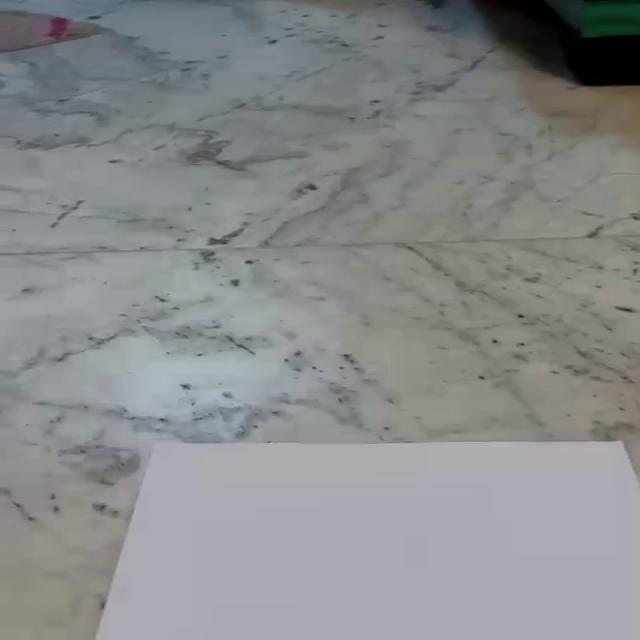road: (93, 442, 640, 640)
